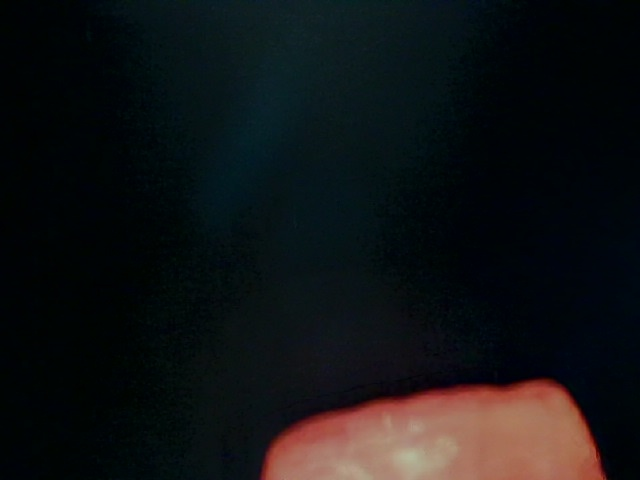KHSLJ: (9, 273, 330, 480)
